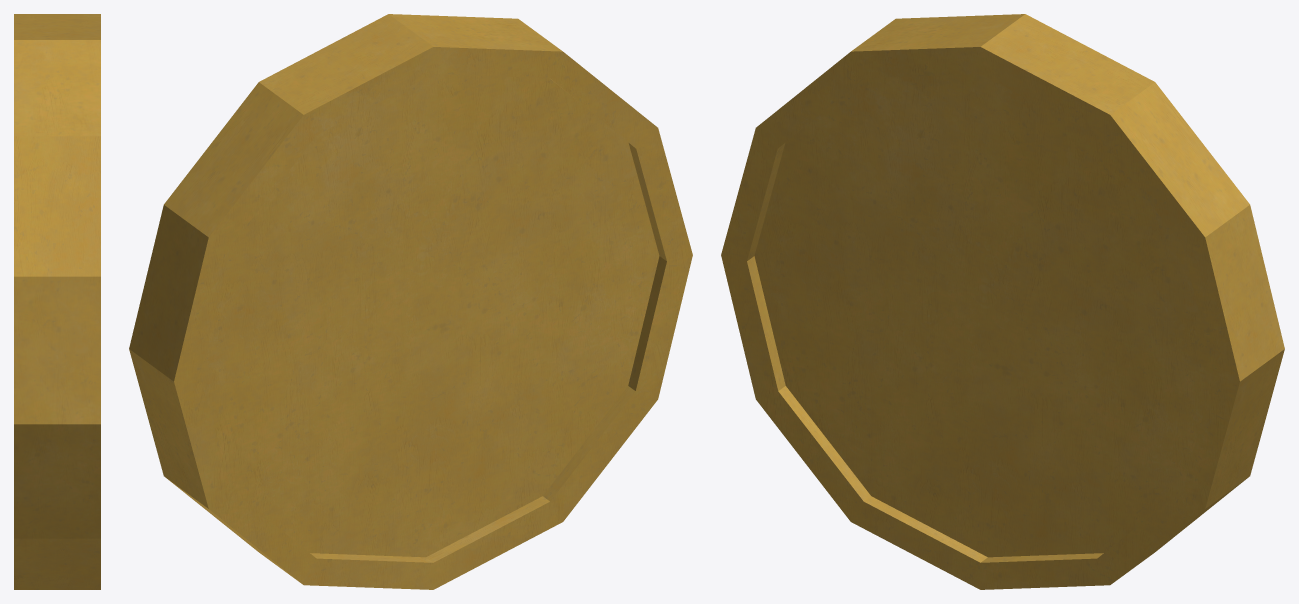
File: coin.fbx
3 renders of one model, left to right at view 1: azimuth 30°, elevation 25°; view 2: azimuth 150°, elevation 25°; view 3: azimuth 270°, elevation 25°, orthographic. The views are drawn at different scales.
Parts seen in each view (by area): view 1: Coin; view 2: Coin; view 3: Coin.
Part boxes in pixels (x1,y1,x2,y2): Coin: (14,14,100,589); Coin: (129,14,692,589); Coin: (721,14,1284,589).
Size of the model in its own units: 126 by 200 by 188.
